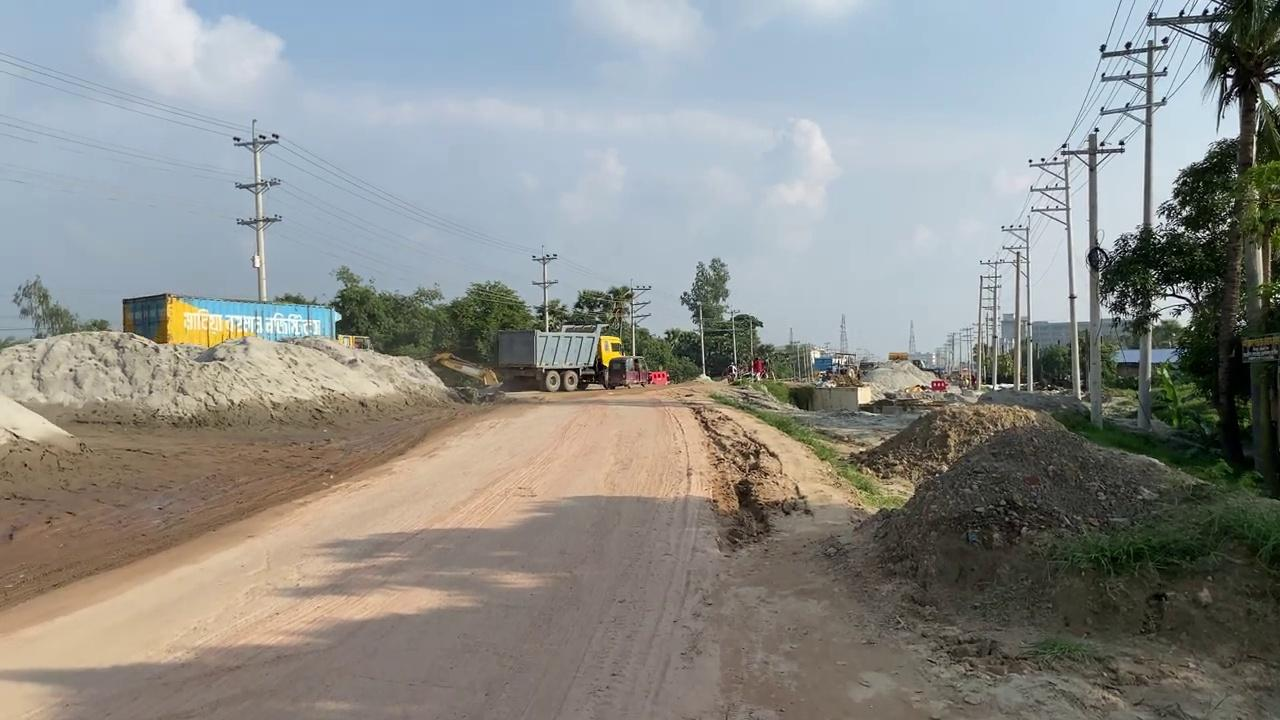Obstacle: (786, 381, 871, 412)
Pole: (1061, 126, 1124, 429), (1028, 156, 1081, 401)
Traffic-sign: (1096, 134, 1277, 469), (679, 256, 730, 376)
Tree: (121, 292, 342, 347), (495, 323, 627, 391), (558, 323, 650, 388), (811, 313, 865, 385), (596, 335, 649, 388), (623, 355, 649, 387), (336, 333, 373, 350)
